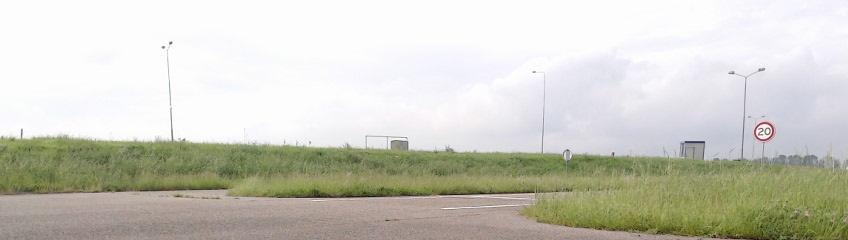Speed-limit-20km-h-: (753, 121, 775, 142)
